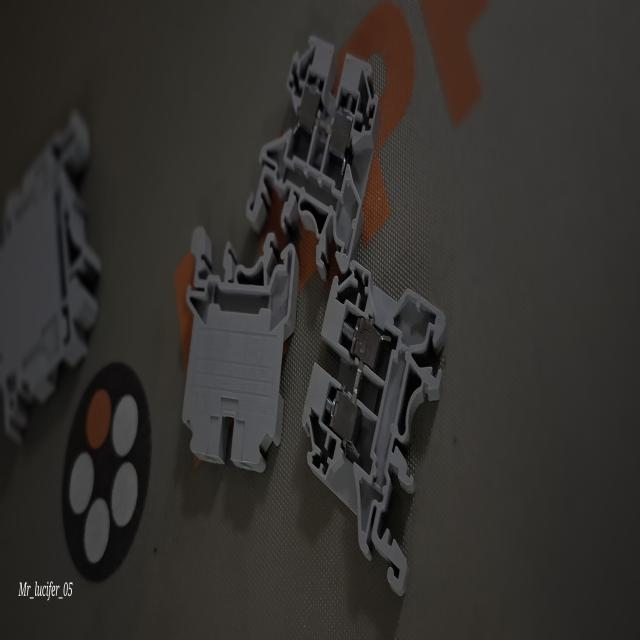Inverted: (176, 198, 308, 479)
Pass: (297, 255, 443, 612), (247, 35, 383, 272)
